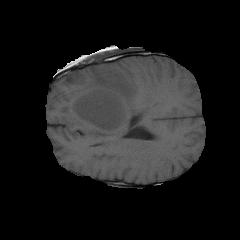glioma: (59, 65, 149, 138)
